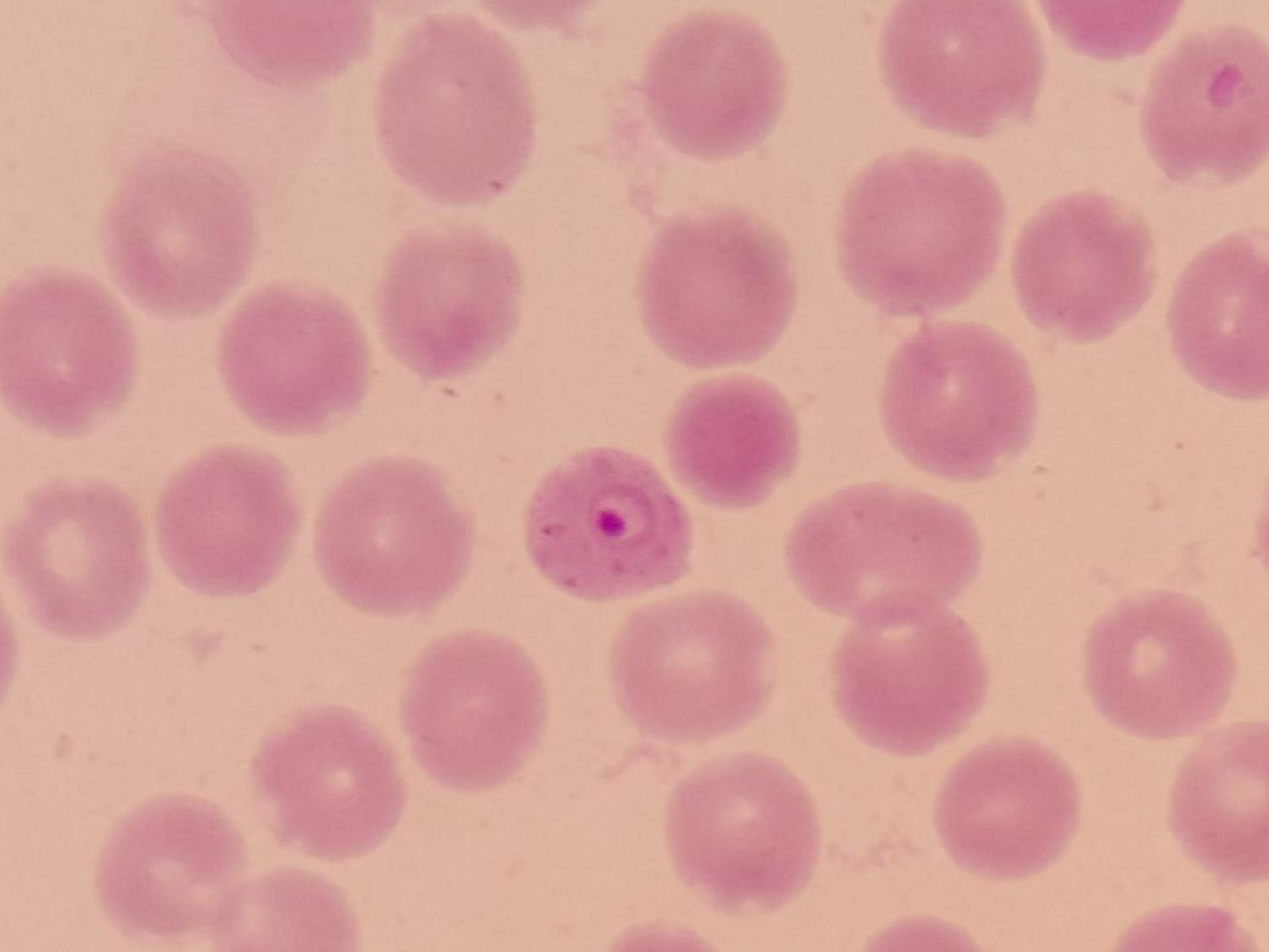Infected: (522, 445, 693, 598)
Uninfected: (374, 20, 537, 205), (834, 151, 1003, 314), (613, 590, 779, 748), (787, 483, 982, 615), (634, 208, 793, 369), (314, 458, 473, 619), (833, 592, 987, 754), (882, 324, 1039, 480), (107, 154, 255, 319), (397, 630, 545, 792), (0, 268, 137, 439), (251, 704, 404, 857), (668, 755, 818, 911), (1081, 592, 1236, 742), (377, 227, 525, 381), (879, 0, 1042, 138), (7, 479, 145, 640), (218, 288, 369, 433), (1137, 22, 1269, 186), (639, 10, 784, 159), (932, 735, 1076, 882), (1016, 194, 1158, 339), (155, 450, 300, 591), (97, 798, 247, 921), (1167, 227, 1269, 400), (668, 380, 800, 508), (1163, 724, 1269, 878)
